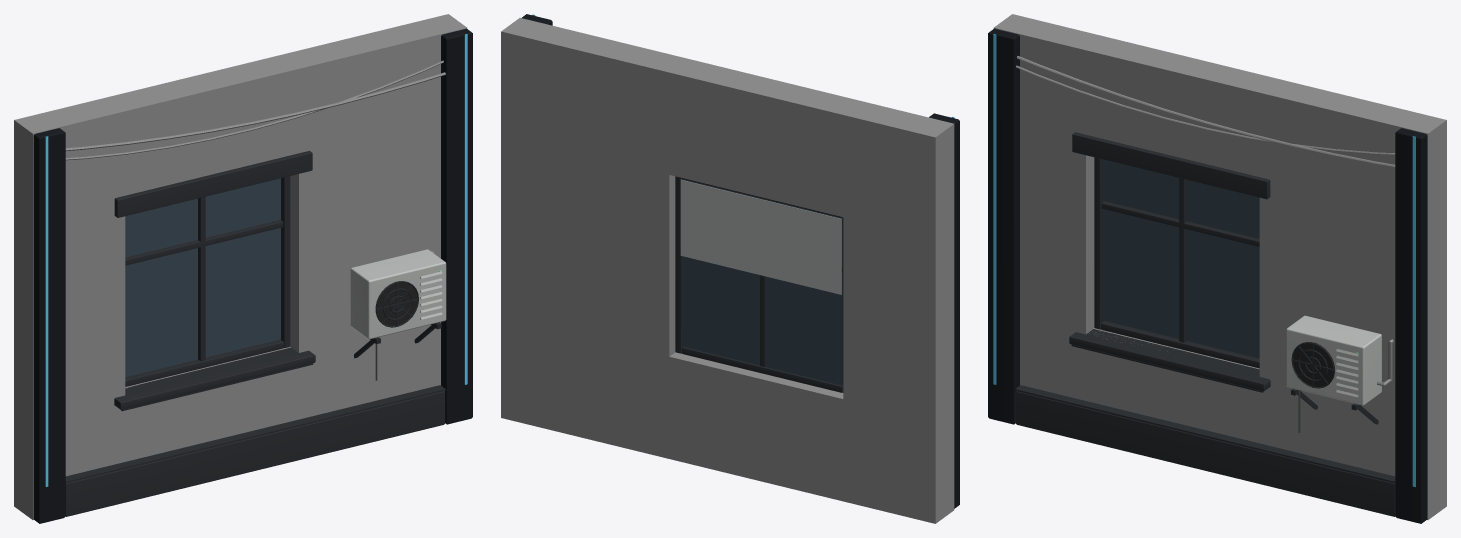
Rendered from Building_Facade_Panel_Window_AC.fbx.
The picture shows the model from 3 angles, left to right: view 1: azimuth 30°, elevation 25°; view 2: azimuth 150°, elevation 25°; view 3: azimuth 330°, elevation 25°; orthographic projection.
Visible parts, largest first — view 1: Building_Facade_Panel_Window_AC_LOD0; view 2: Building_Facade_Panel_Window_AC_LOD0; view 3: Building_Facade_Panel_Window_AC_LOD0.
Part boxes in pixels (left/top/right/bottom): Building_Facade_Panel_Window_AC_LOD0: left=14, top=14, right=472, bottom=523; Building_Facade_Panel_Window_AC_LOD0: left=501, top=14, right=959, bottom=523; Building_Facade_Panel_Window_AC_LOD0: left=988, top=14, right=1446, bottom=523.
Size of what is drawn, in the model's own units: 4 by 3.4 by 0.67.
